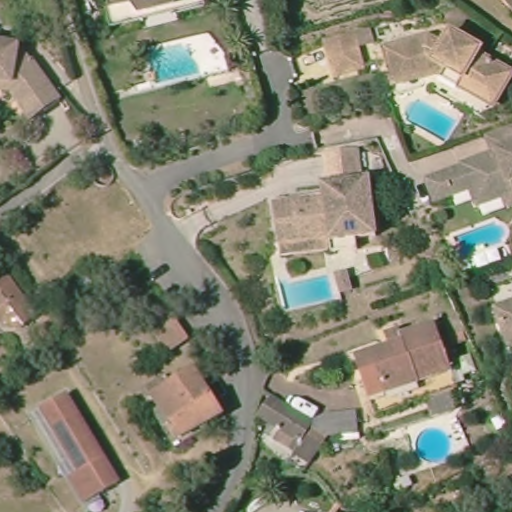pool: (138, 41, 208, 87), (436, 216, 512, 256), (273, 269, 343, 312), (404, 96, 463, 147), (411, 425, 455, 464)
